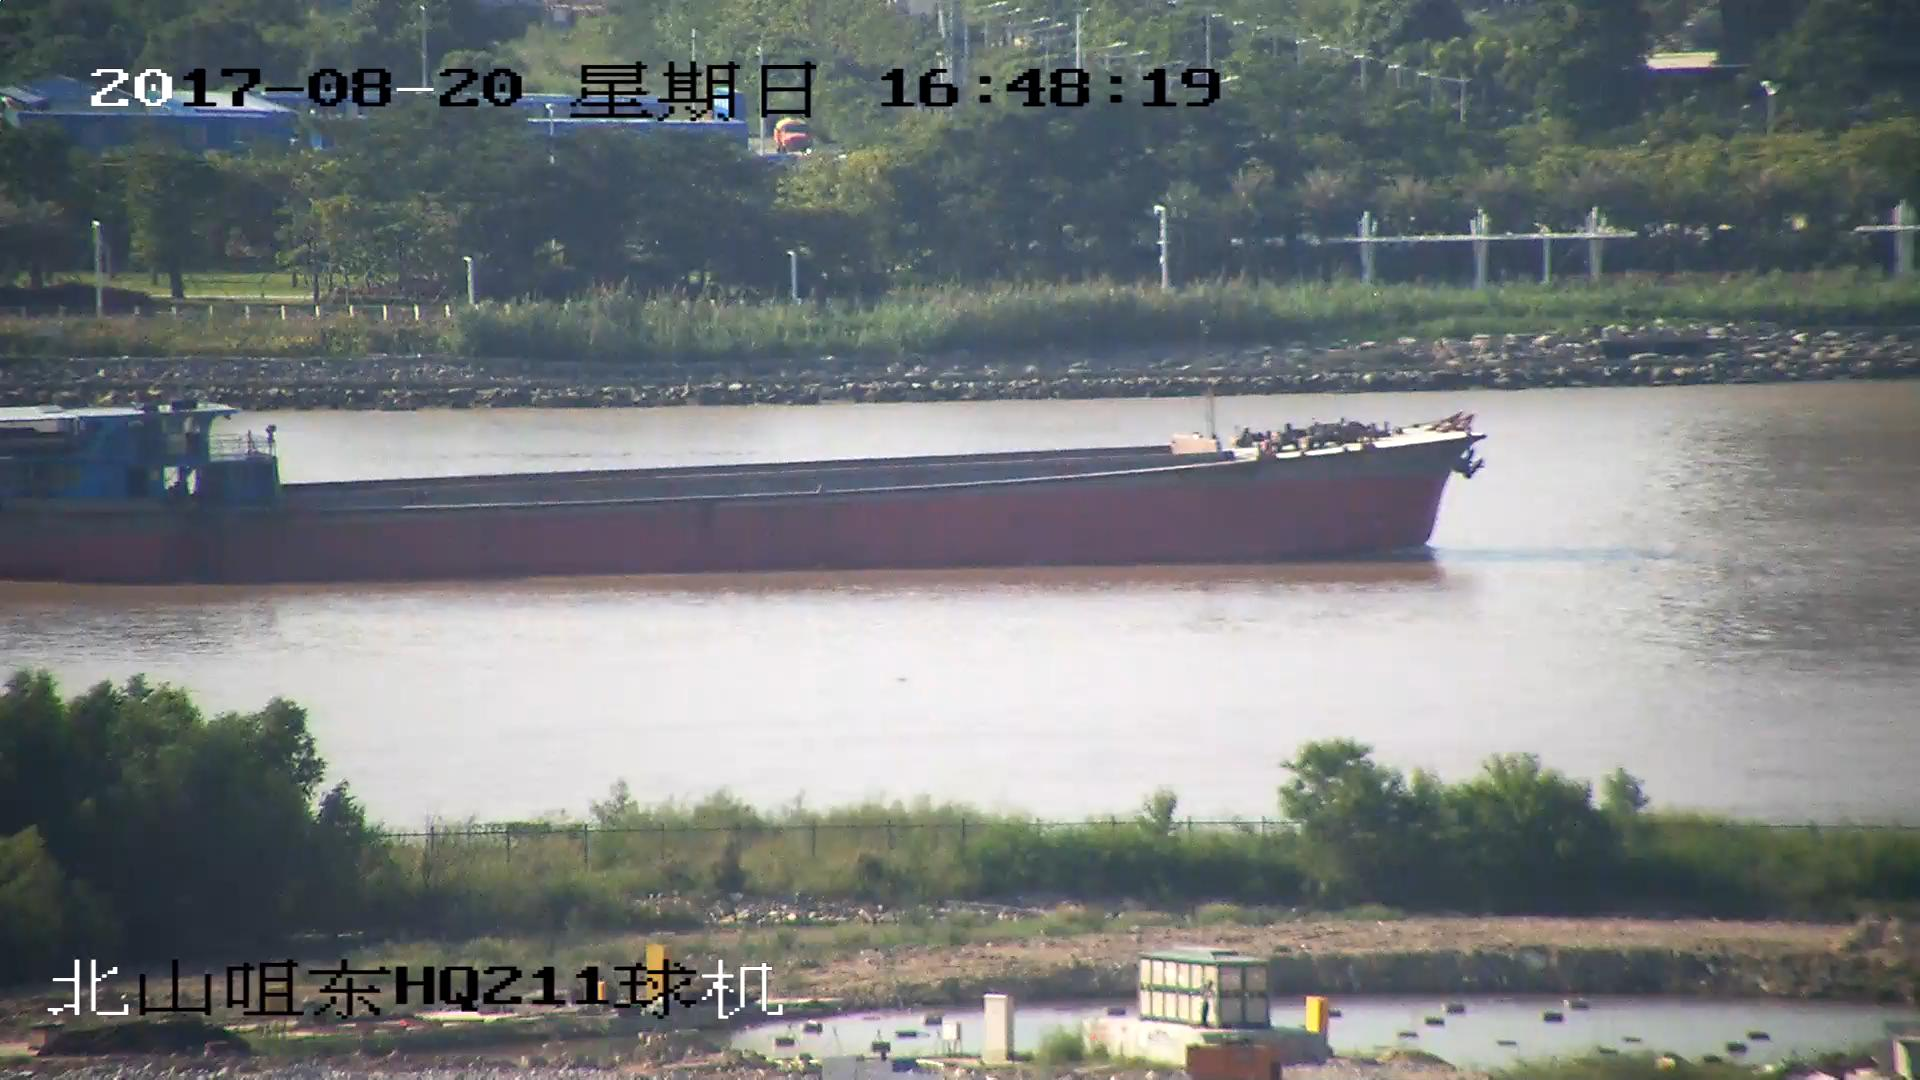bulk cargo carrier: (1, 399, 1484, 583)
